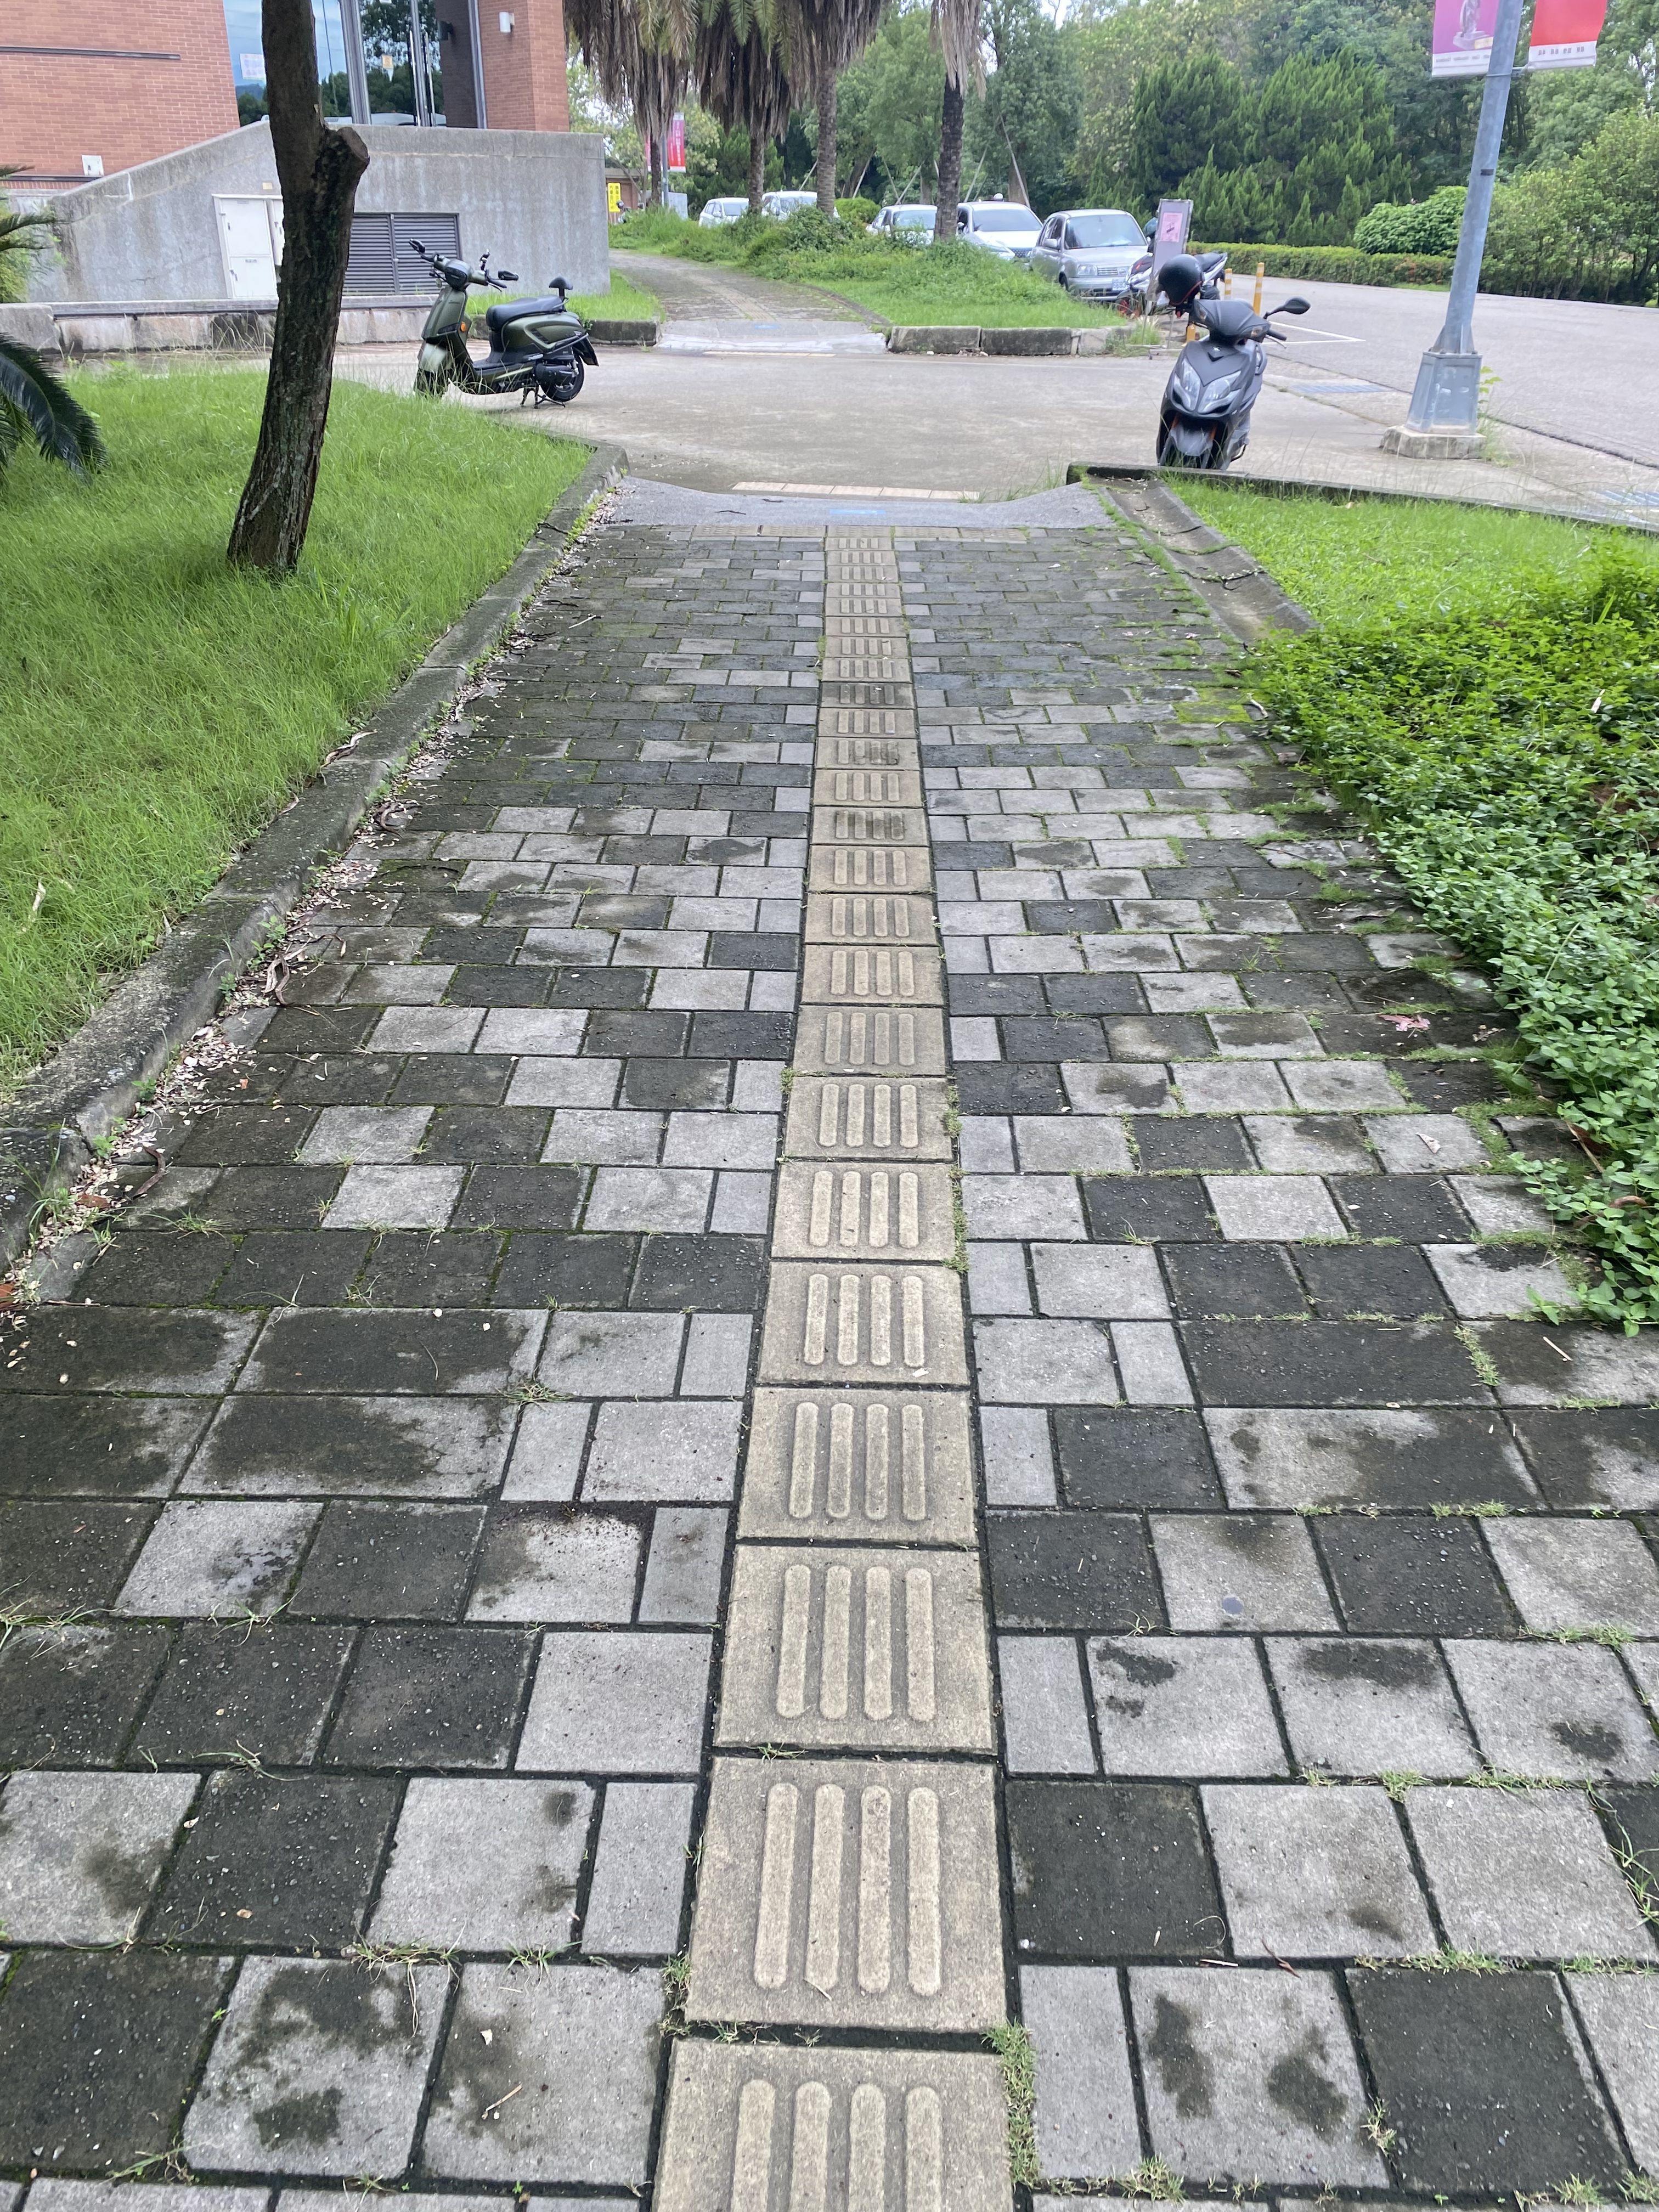0: (615, 240, 910, 381)
sidewalk: (5, 482, 1659, 2212)
